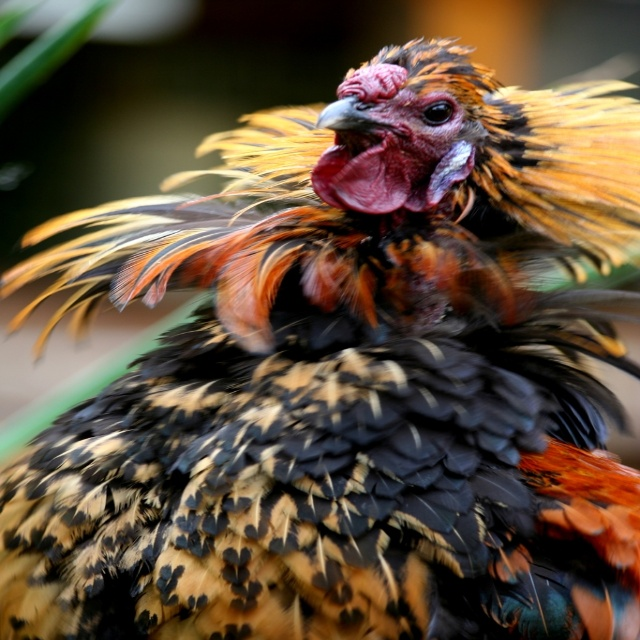Chicken: (30, 58, 614, 624)
